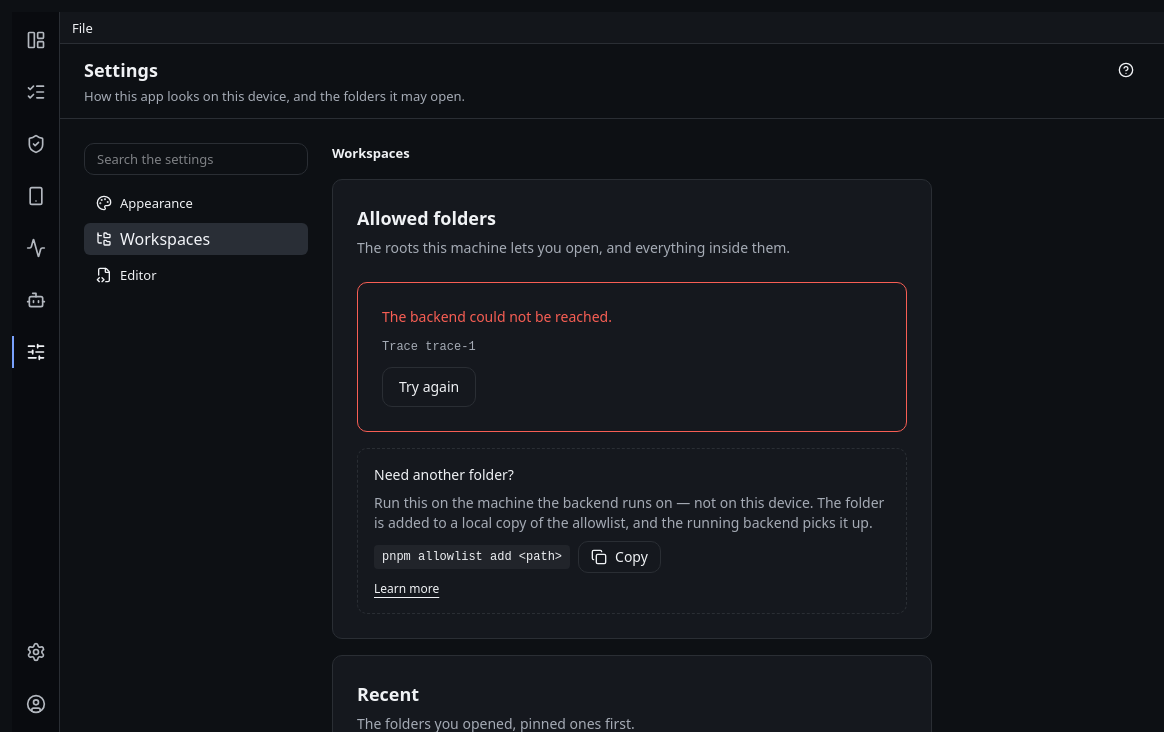
Test case: the app’s Settings — plan 06, B-31 › Workspaces › says what to do when the roots could not be read, and tries again — S-147
The width and height of the screenshot is (1164, 732).
Expected: the message shows "The backend could not be reached.", [382,307,612,326]
Step 1. Click the button "Try again" → (429, 387), box [382,367,476,407]
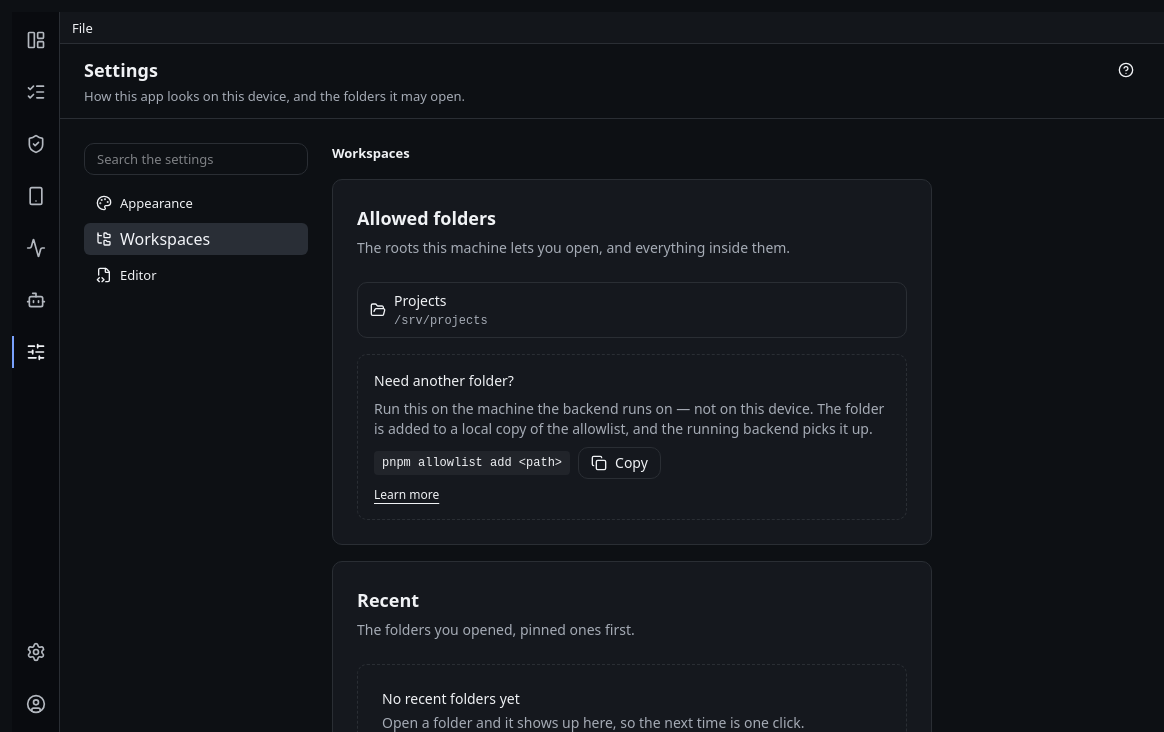
Expected: the text "/srv/projects" is shown, [394,313,488,329]
